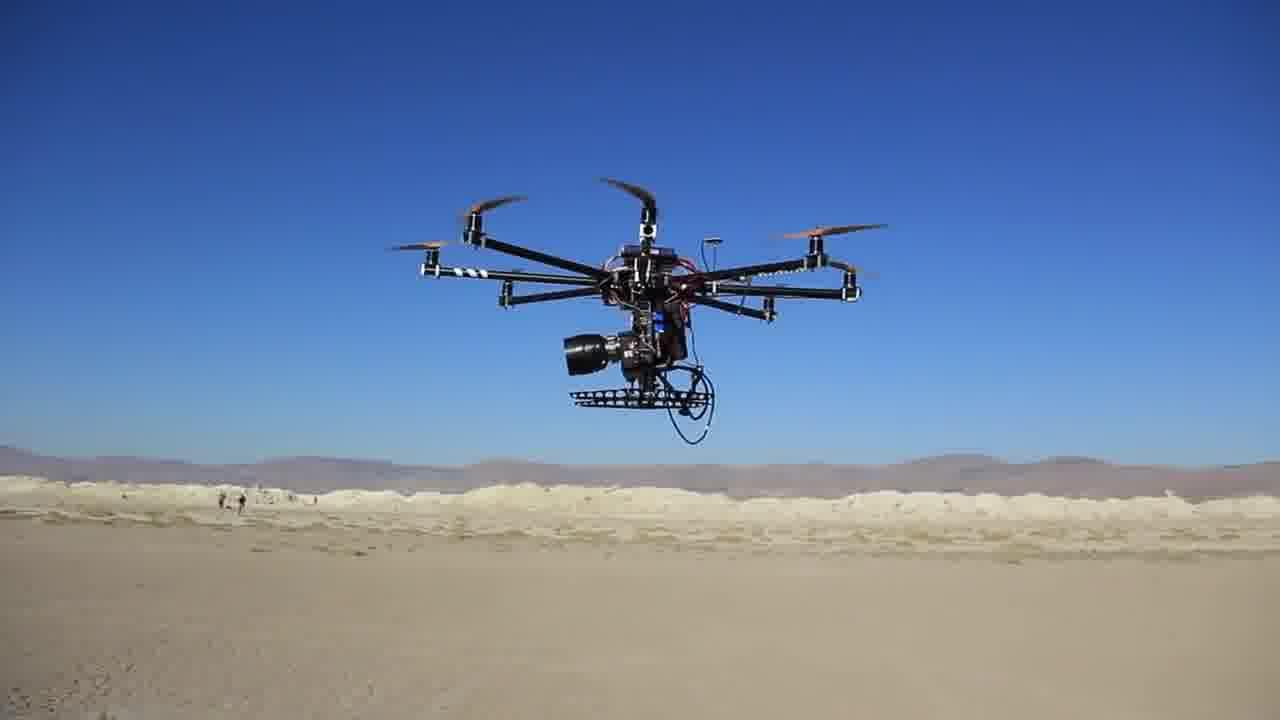drone: (386, 144, 858, 426)
